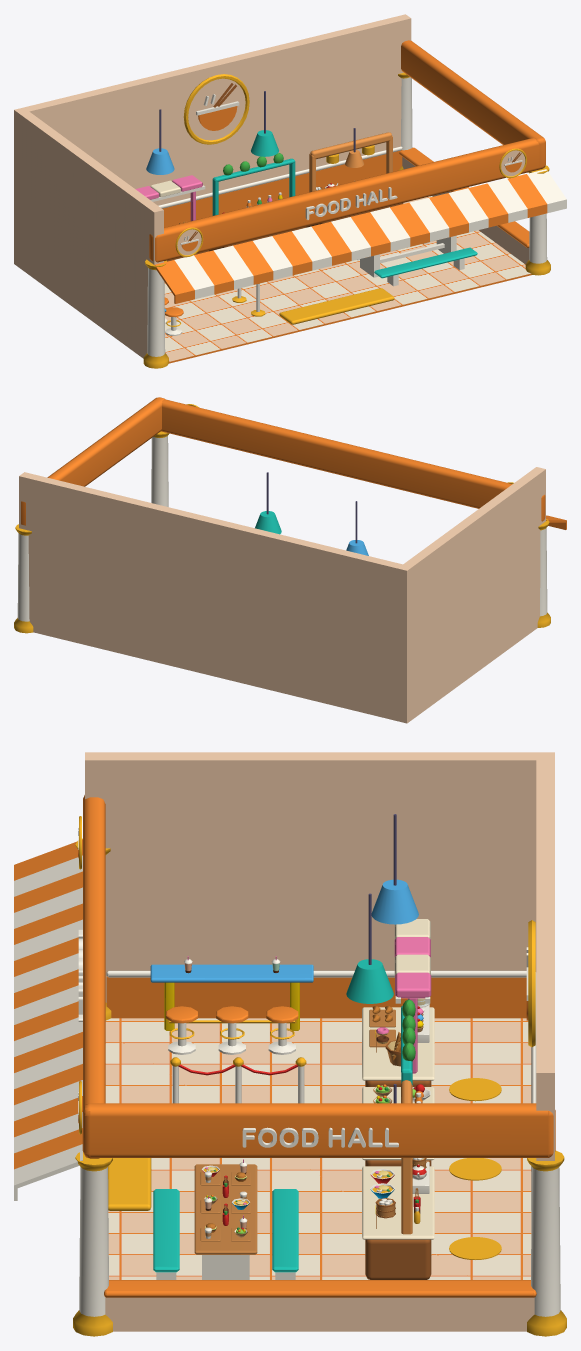
Rendered from food_hall.glb.
3 views of the same model, one above another, from view 1: azimuth 30°, elevation 25°; view 2: azimuth 150°, elevation 25°; view 3: azimuth 270°, elevation 25° (orthographic). The views are drawn at different scales.
Visible parts, largest first — view 1: Shop_Food_Back_Wall, Shop_Food_Front_Canopy, Shop_Food_Shell, Shop_Food_Side_Wall, Refined_Food_Entry_Mat, Food_Communal_Bench_1, Food_Communal_Table, Noodle_Portal_Header, Food_Pendant_Shade_2, Food_Pendant_Shade_1; view 2: Shop_Food_Back_Wall, Shop_Food_Side_Wall, Shop_Food_Front_Canopy, Shop_Food_Shell, Food_Pendant_Shade_1; view 3: Shop_Food_Side_Wall, Shop_Food_Shell, Shop_Food_Front_Canopy, Shop_Food_Back_Wall, Food_Communal_Table, Food_Standing_Rail, Food_Stall_Noodle_Top, Food_Stall_Noodle_Counter, M_Food_Dining, Food_Stall_Bake_Top, Food_Communal_Bench_1, Food_Communal_Bench_0 (+13 smaller).
Part boxes in pixels (x1,y1,x2,y2): Shop_Food_Back_Wall: (14,14,411,267); Shop_Food_Front_Canopy: (149,40,566,303); Shop_Food_Shell: (143,72,550,368); Shop_Food_Side_Wall: (19,111,163,358); Refined_Food_Entry_Mat: (279,288,394,324); Food_Communal_Bench_1: (374,247,477,286); Food_Communal_Table: (360,233,466,277); Noodle_Portal_Header: (310,132,391,159); Food_Pendant_Shade_2: (146,148,174,174); Food_Pendant_Shade_1: (251,130,278,156); Shop_Food_Back_Wall: (19,472,412,723); Shop_Food_Side_Wall: (403,467,545,718); Shop_Food_Front_Canopy: (21,397,566,529); Shop_Food_Shell: (14,431,550,633); Food_Pendant_Shade_1: (255,511,281,534); Shop_Food_Side_Wall: (85,752,536,1018); Shop_Food_Shell: (73,838,566,1336); Shop_Food_Front_Canopy: (14,795,555,1200); Shop_Food_Back_Wall: (526,752,554,1210); Food_Communal_Table: (194,1164,257,1279); Food_Standing_Rail: (150,964,313,1030); Food_Stall_Noodle_Top: (362,1166,434,1239); Food_Stall_Noodle_Counter: (365,1239,431,1279); M_Food_Dining: (184,956,280,1241); Food_Stall_Bake_Top: (362,1007,434,1080); Food_Communal_Bench_1: (153,1189,179,1279); Food_Communal_Bench_0: (272,1189,298,1279).
Size of the model in its own units: 12.48 by 4.89 by 8.82.
Materials: 28 (1 with a texture image).
